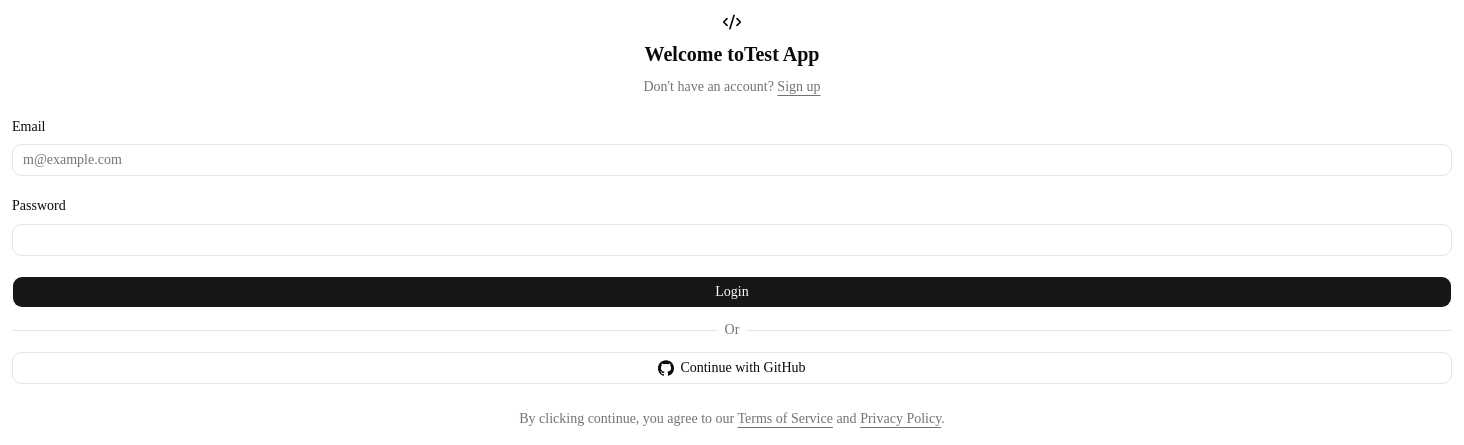
Scenario: loginForm › disables submit button while submitting
Type "test@example.com" into the field labelled "Email" at [732, 160], box [12, 144, 1452, 176]
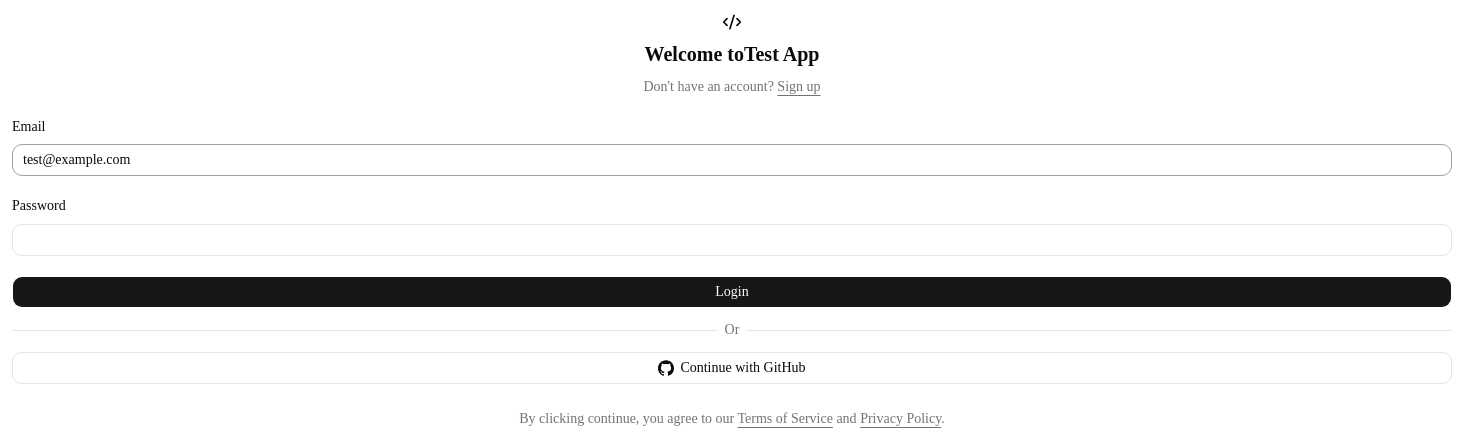
Type "pass" into the password field labelled "Password" at [732, 240], box [12, 224, 1452, 256]
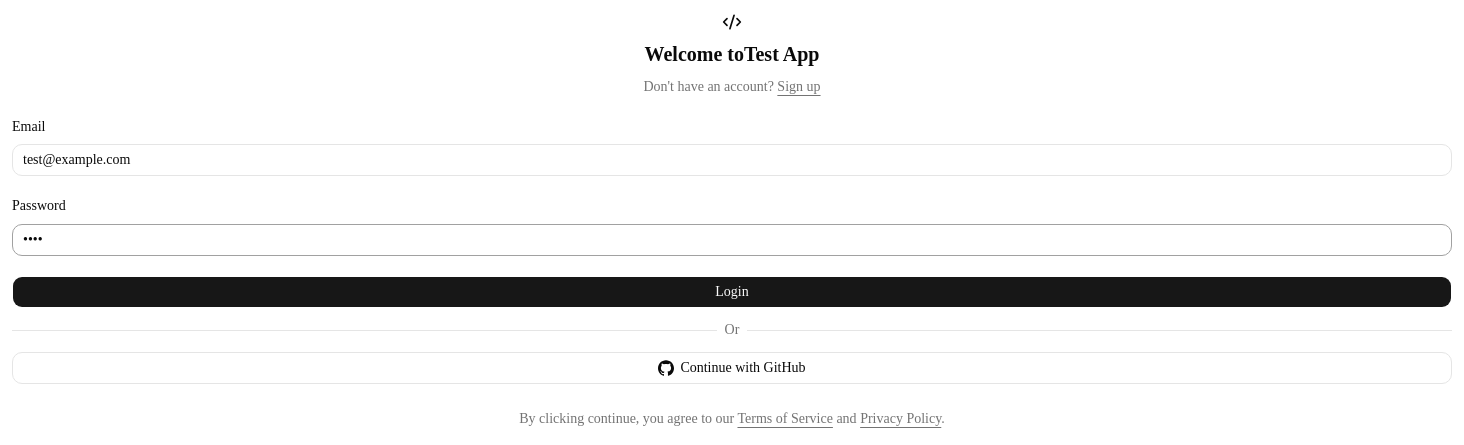
Click the button "Login" at [732, 292], box [12, 276, 1452, 308]
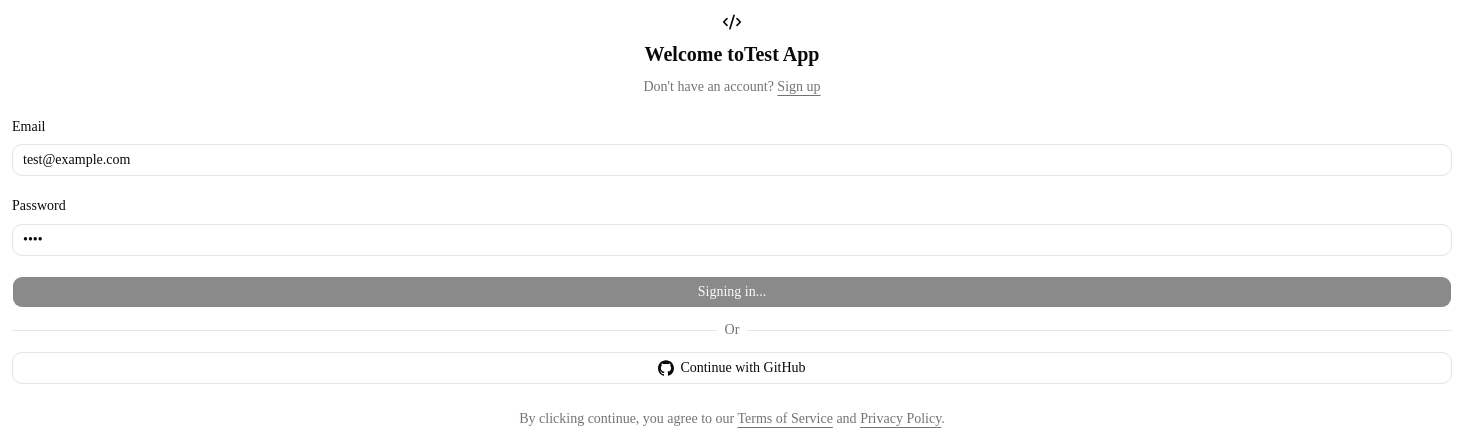
Expected: the button "Signing in..." is disabled, [12, 276, 1452, 308]
